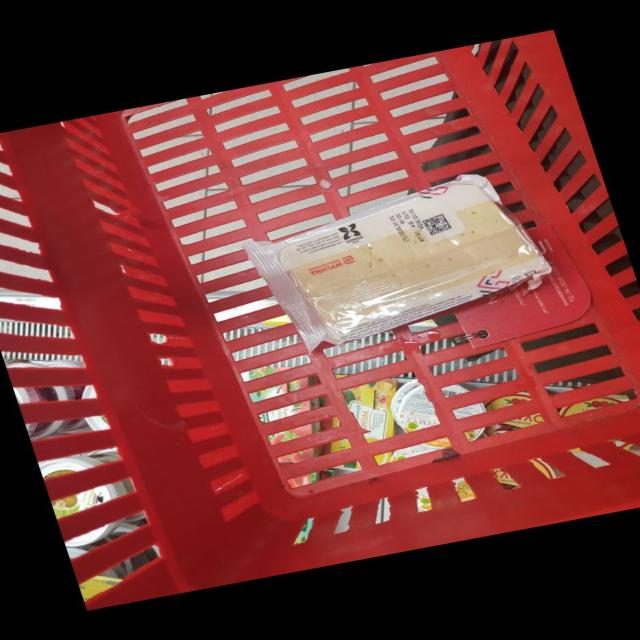Cheese: (243, 174, 550, 350)
